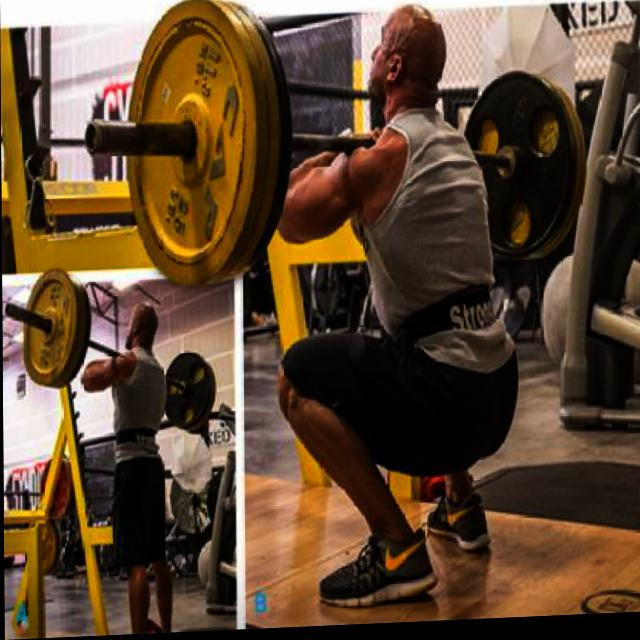barbell: (83, 1, 277, 294), (3, 273, 95, 397)
